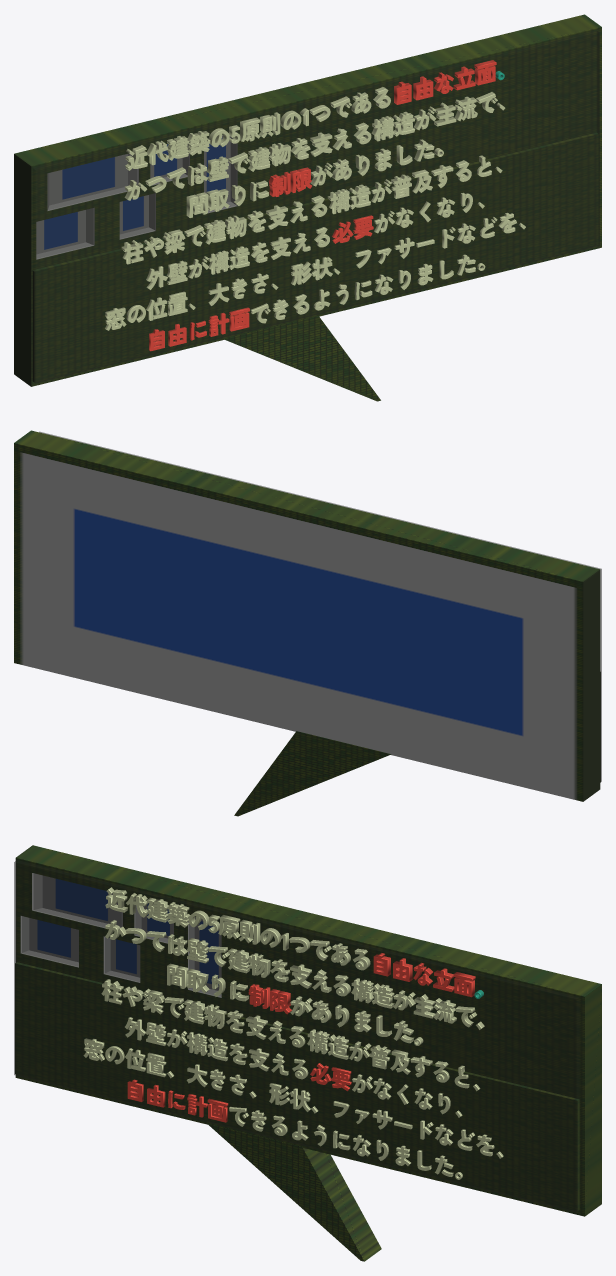
The model's file is cfukidasi-ziruritumen.glb.
The picture shows the model from 3 angles, top to bottom: view 1: azimuth 30°, elevation 25°; view 2: azimuth 150°, elevation 25°; view 3: azimuth 330°, elevation 25°; orthographic projection.
Visible parts, largest first — view 1: 立方体.003, 立方体, 立方体.002, テキスト, 立方体.001; view 2: 立方体, 立方体.001, 立方体.003; view 3: 立方体.003, 立方体, 立方体.002, テキスト, 立方体.001.
Part boxes in pixels (x1=…): 立方体.003: x1=33, y1=30, x2=599, y2=383; 立方体: x1=14, y1=14, x2=601, y2=386; 立方体.002: x1=32, y1=132, x2=598, y2=382; テキスト: x1=105, y1=60, x2=525, y2=351; 立方体.001: x1=223, y1=316, x2=380, y2=401; 立方体: x1=14, y1=430, x2=600, y2=801; 立方体.001: x1=234, y1=731, x2=391, y2=816; 立方体.003: x1=39, y1=431, x2=601, y2=781; 立方体.003: x1=14, y1=860, x2=579, y2=1212; 立方体: x1=15, y1=845, x2=601, y2=1216; 立方体.002: x1=15, y1=962, x2=579, y2=1211; テキスト: x1=83, y1=887, x2=503, y2=1179; 立方体.001: x1=207, y1=1123, x2=381, y2=1261.
Size of the model in its own units: 11.96 by 6.4 by 0.7575.
7 materials, 3 textured.
